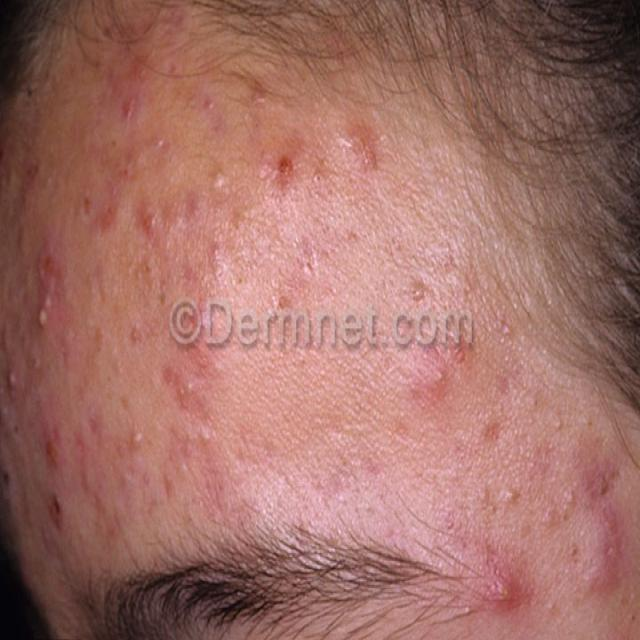Acne: (596, 505, 624, 592), (583, 454, 620, 503), (349, 122, 380, 174), (486, 567, 520, 613), (38, 238, 64, 286), (274, 148, 298, 196), (41, 421, 66, 467), (46, 488, 67, 537), (34, 290, 56, 333), (428, 356, 452, 393), (86, 401, 105, 444), (97, 199, 119, 230), (127, 424, 148, 456), (3, 364, 23, 396), (120, 93, 140, 124), (208, 166, 230, 193), (410, 278, 428, 307), (177, 379, 194, 403), (502, 484, 518, 507), (144, 211, 158, 236), (202, 93, 216, 116), (208, 240, 222, 263)
